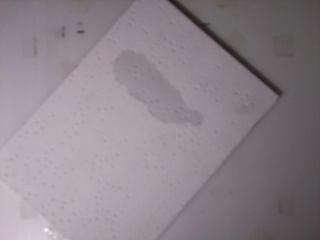Water_detected: (130, 57, 190, 118)
